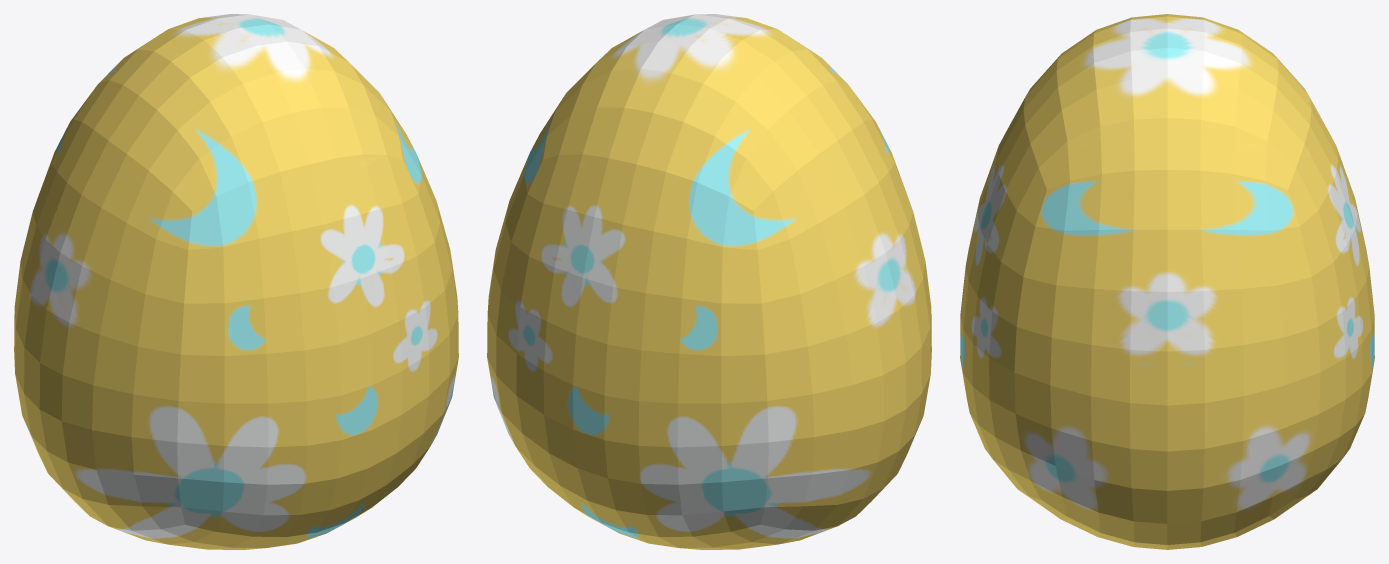
File: Egg_Yellow.fbx
3 renders of one model, left to right at view 1: azimuth 30°, elevation 25°; view 2: azimuth 150°, elevation 25°; view 3: azimuth 270°, elevation 25°, orthographic.
Visible parts, largest first — view 1: Egg; view 2: Egg; view 3: Egg.
Boxes of the visible parts, <box> form: Egg: <box>14,14,458,549</box>; Egg: <box>487,14,931,549</box>; Egg: <box>960,14,1374,549</box>.
Size of the model in its own units: 210 by 256 by 195.
1 material, 1 textured.
